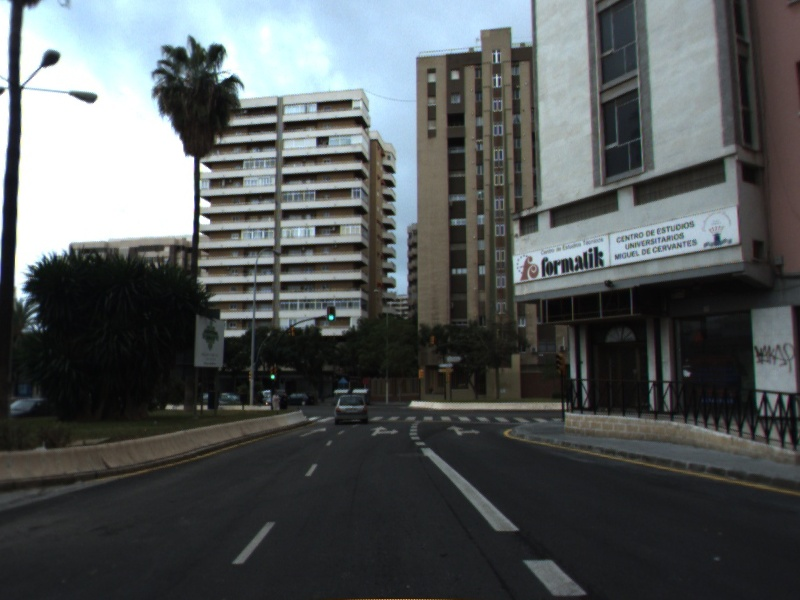STRAIGHT: (298, 424, 329, 439)
STRAIGHT_RIGHT: (445, 423, 483, 438), (368, 424, 401, 438)
